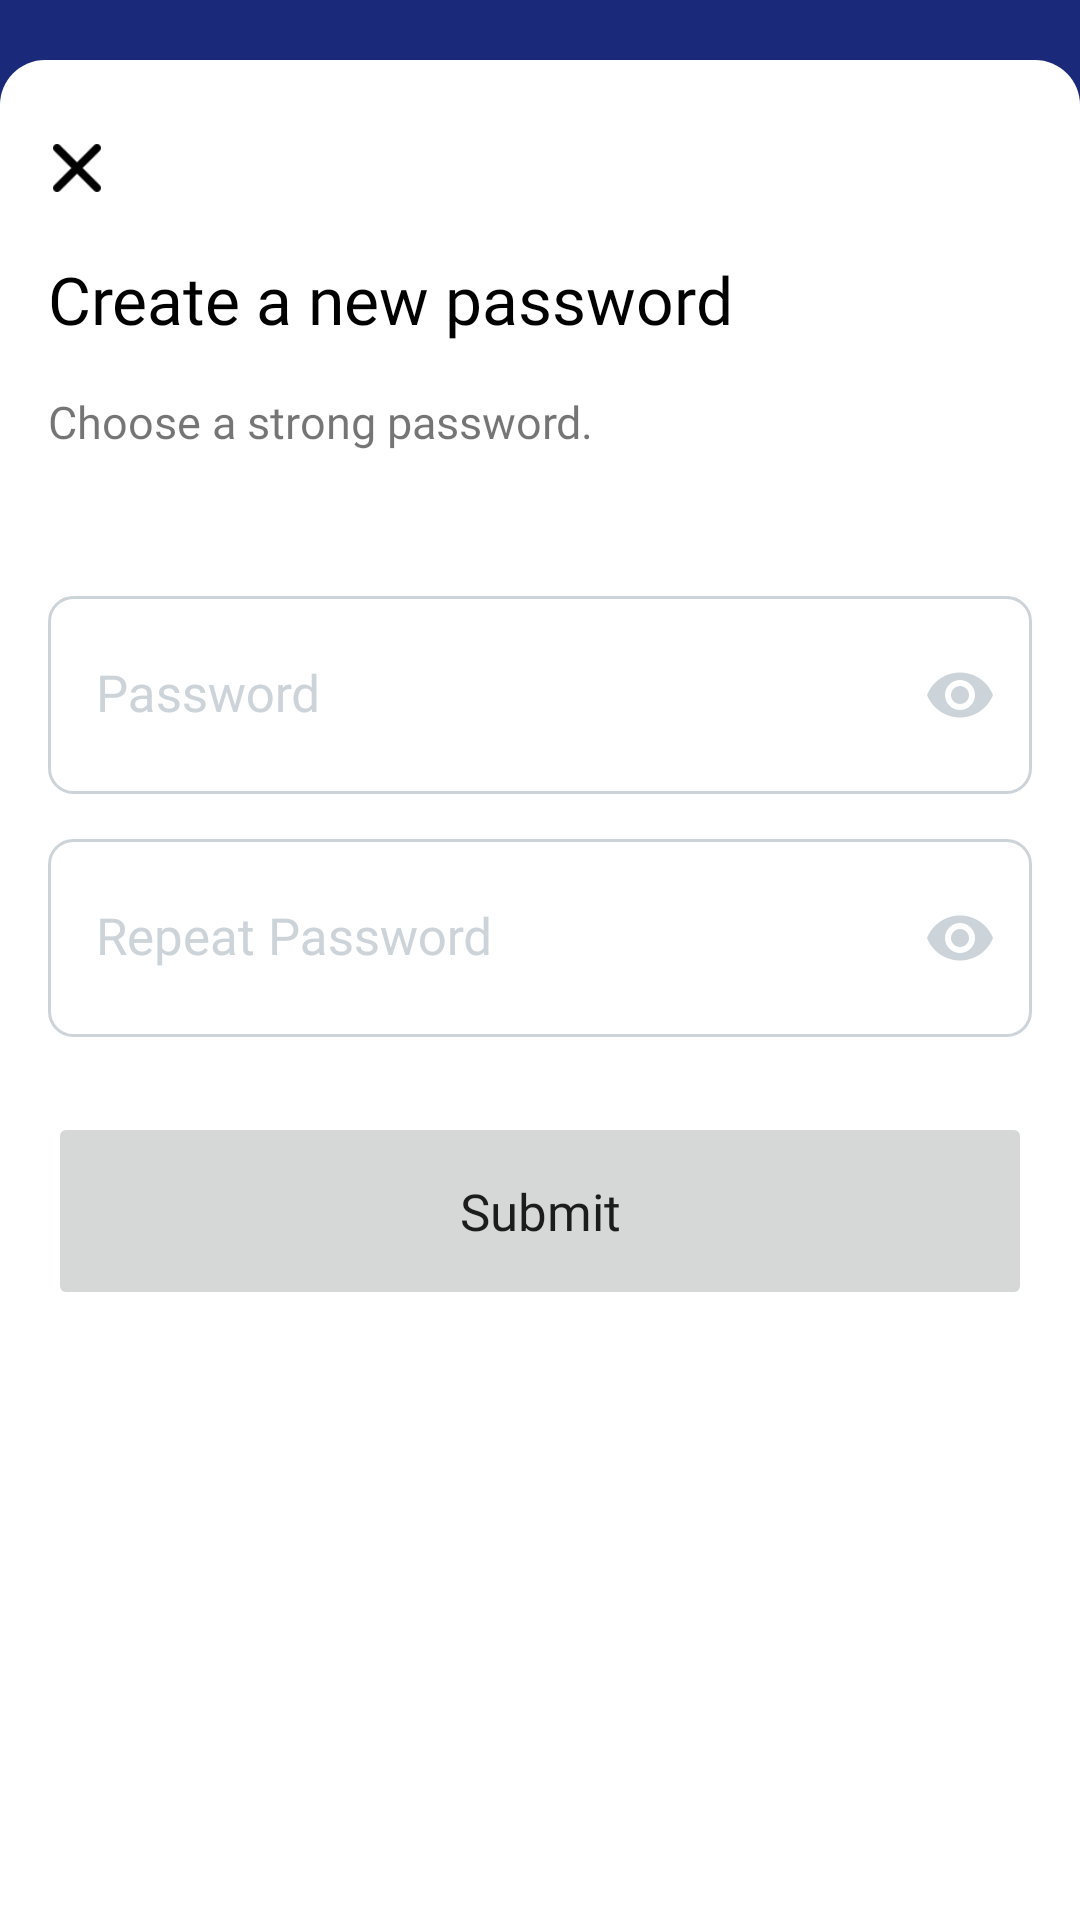

Point at icon controls on the screen. Image size 1080 × 1920, points as (x=x, y=y).
exit: (x=77, y=168)
